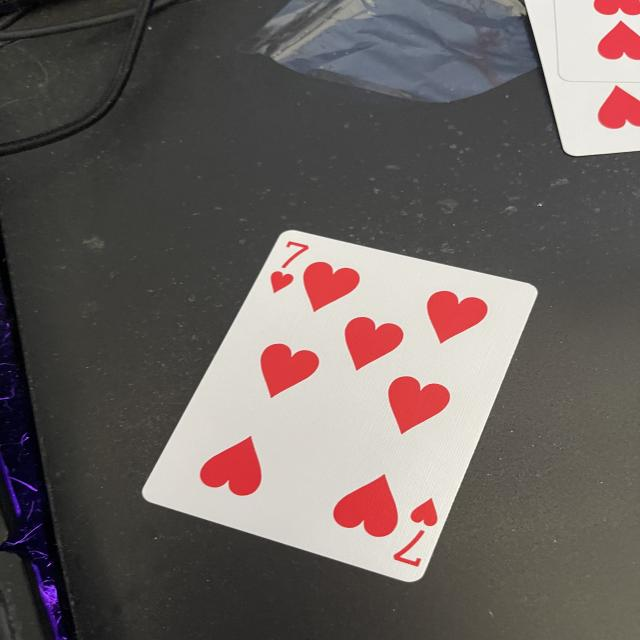7 of hearts: (139, 232, 540, 586)
